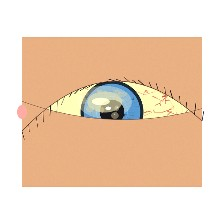corneal_ulcer: (76, 79, 133, 125)
